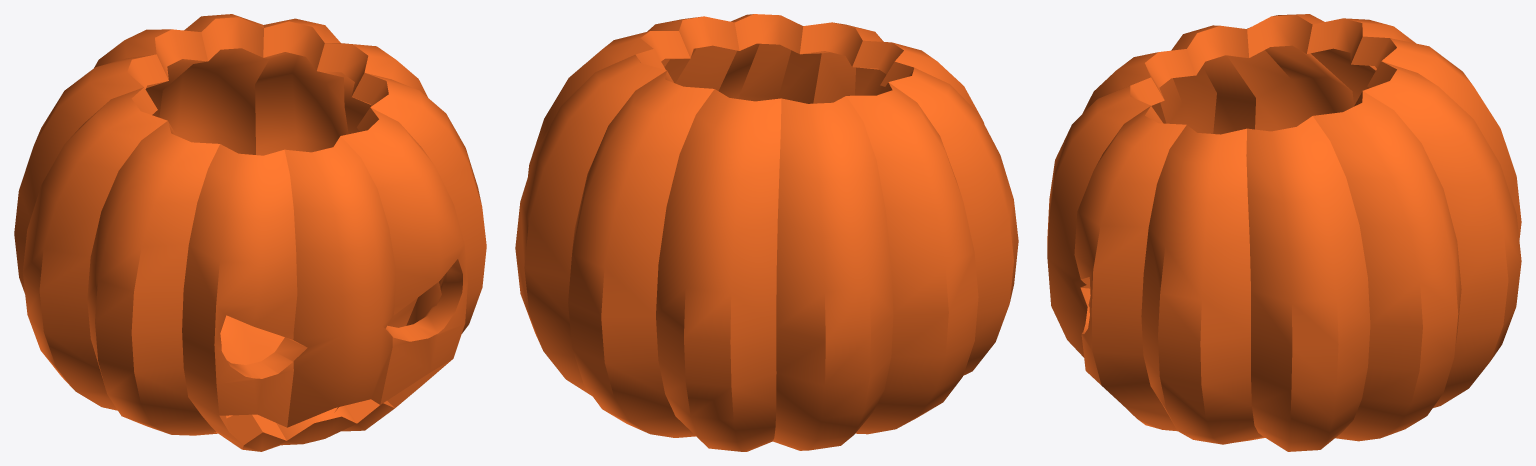
The model's file is jackolantern_big.glb.
3 renders of one model, left to right at view 1: azimuth 30°, elevation 25°; view 2: azimuth 150°, elevation 25°; view 3: azimuth 270°, elevation 25°, orthographic. The views are drawn at different scales.
Parts seen in each view (by area): view 1: jackolantern_big; view 2: jackolantern_big; view 3: jackolantern_big.
Part boxes in pixels (<box>): jackolantern_big: <box>14,14,486,451</box>; jackolantern_big: <box>515,14,1018,451</box>; jackolantern_big: <box>1047,14,1521,451</box>.
Size of the model in its own units: 1.34 by 1.07 by 1.3.
